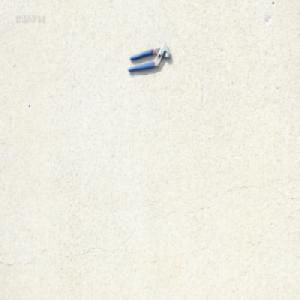Pliers: (126, 41, 171, 72)
